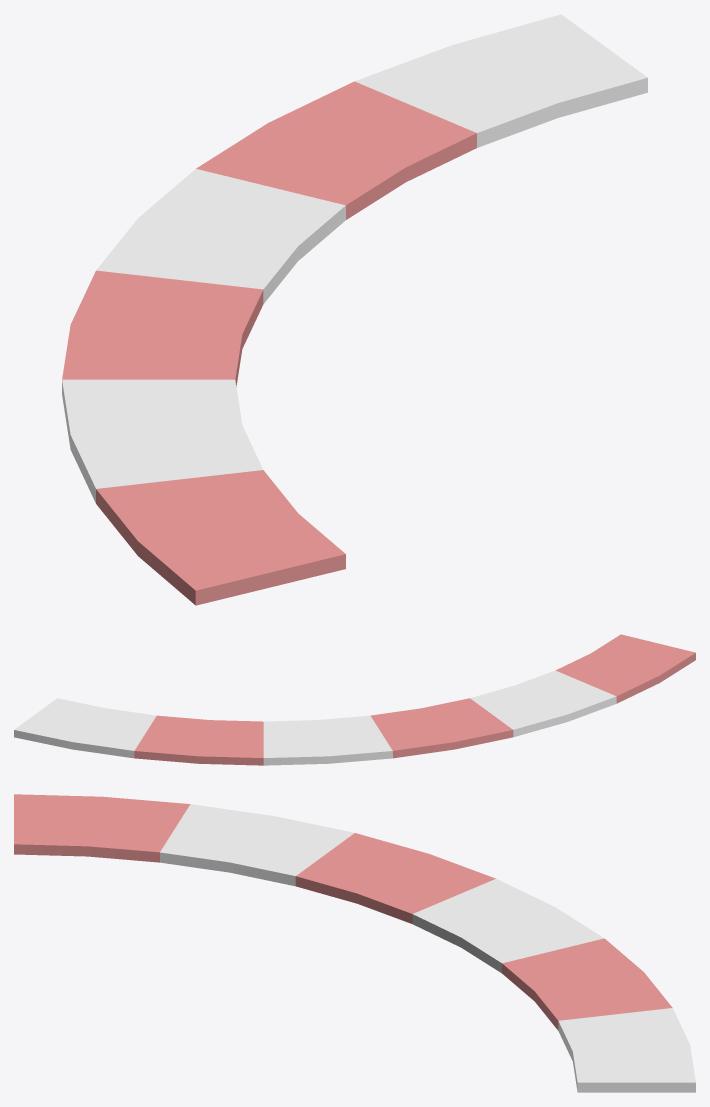
Rendered from roadCornerSmallBorder.glb.
3 renders of one model, top to bottom at view 1: azimuth 30°, elevation 25°; view 2: azimuth 150°, elevation 25°; view 3: azimuth 270°, elevation 25°, orthographic. The views are drawn at different scales.
Parts seen in each view (by area): view 1: roadCornerSmallBorder; view 2: roadCornerSmallBorder; view 3: roadCornerSmallBorder.
Boxes of the visible parts, x1=… form: roadCornerSmallBorder: x1=62, y1=14, x2=647, y2=605; roadCornerSmallBorder: x1=14, y1=634, x2=695, y2=765; roadCornerSmallBorder: x1=14, y1=794, x2=695, y2=1092.
Bounding box in the file's own units: 1.79 × 0.0295 × 1.79.
